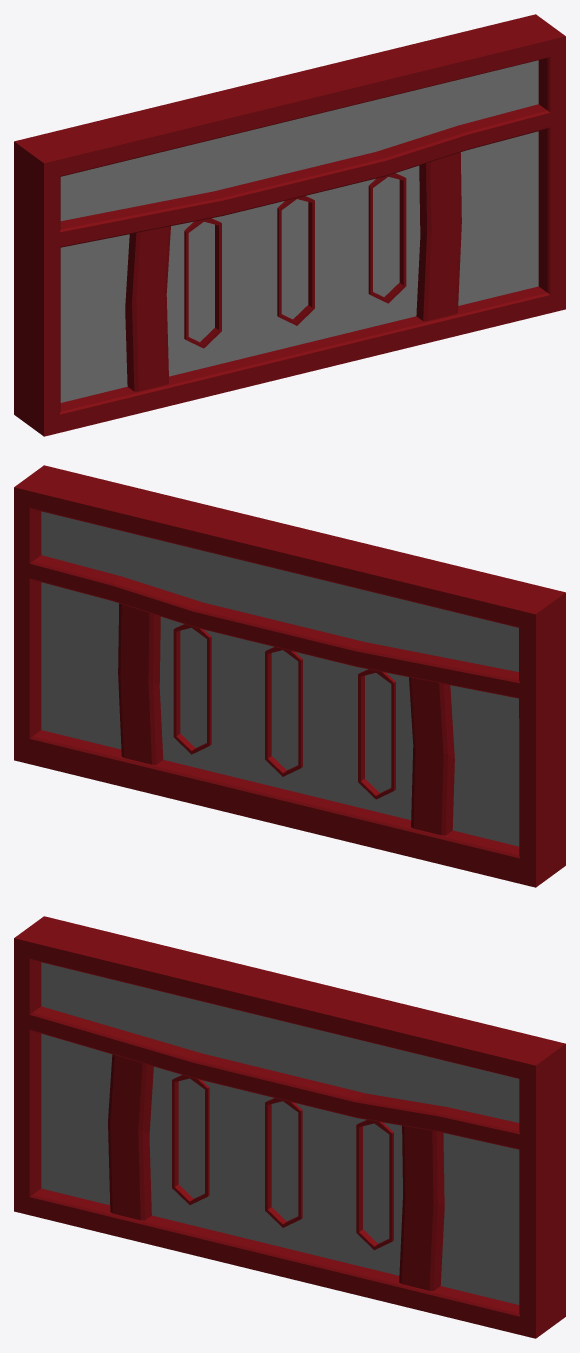
File: SM_MH_01_Wood_02_Wall_Half_H_Window_01.fbx
3 renders of one model, top to bottom at view 1: azimuth 30°, elevation 25°; view 2: azimuth 150°, elevation 25°; view 3: azimuth 330°, elevation 25°, orthographic.
Parts seen in each view (by area): view 1: SM_MH_01_Wood_02_Wall_Half_H_Window_01_LOD0, SM_MH_01_Wood_02_Wall_Half_H_Window_01W_LOD0; view 2: SM_MH_01_Wood_02_Wall_Half_H_Window_01_LOD0, SM_MH_01_Wood_02_Wall_Half_H_Window_01W_LOD0; view 3: SM_MH_01_Wood_02_Wall_Half_H_Window_01_LOD0, SM_MH_01_Wood_02_Wall_Half_H_Window_01W_LOD0.
Boxes of the visible parts, box(x1,y1,x2,y2) form: SM_MH_01_Wood_02_Wall_Half_H_Window_01_LOD0: box(14, 14, 565, 436); SM_MH_01_Wood_02_Wall_Half_H_Window_01W_LOD0: box(188, 177, 399, 341); SM_MH_01_Wood_02_Wall_Half_H_Window_01_LOD0: box(14, 465, 565, 887); SM_MH_01_Wood_02_Wall_Half_H_Window_01W_LOD0: box(180, 628, 391, 792); SM_MH_01_Wood_02_Wall_Half_H_Window_01_LOD0: box(14, 916, 565, 1338); SM_MH_01_Wood_02_Wall_Half_H_Window_01W_LOD0: box(178, 1078, 389, 1243).
Size of what is drawn, in the model's own units: 300 by 150 by 30.
